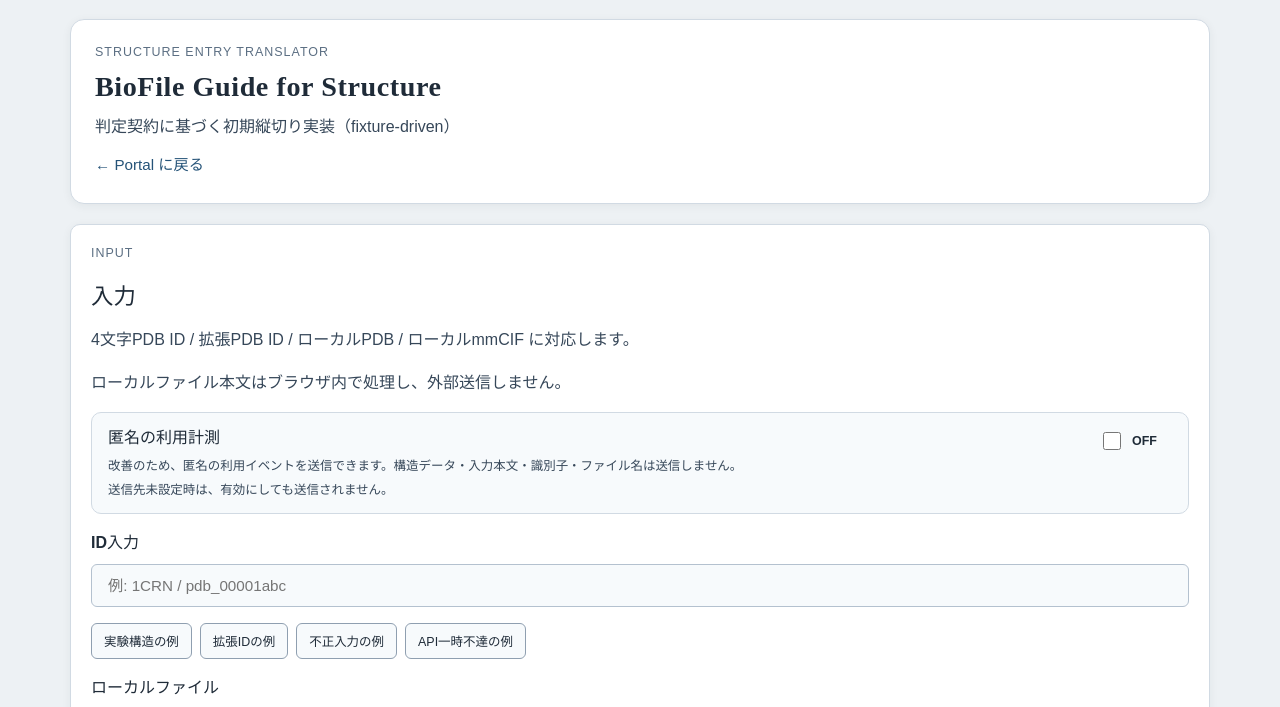
Test case: App anonymous telemetry integration › separates unknown render telemetry from error telemetry
Click the button "拡張IDの例".
click(244, 641)  # box [200,623,288,659]
(page scrolled)
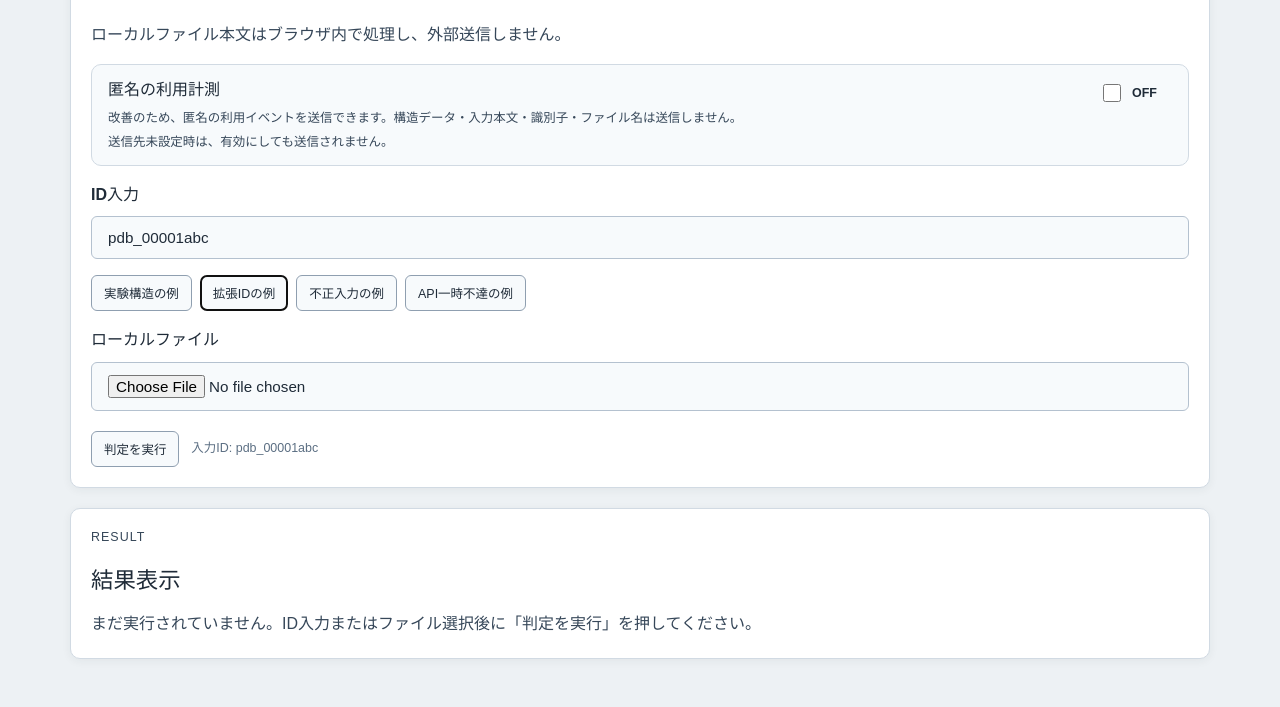
Click the button "判定を実行".
click(135, 449)  # box [91,431,179,467]
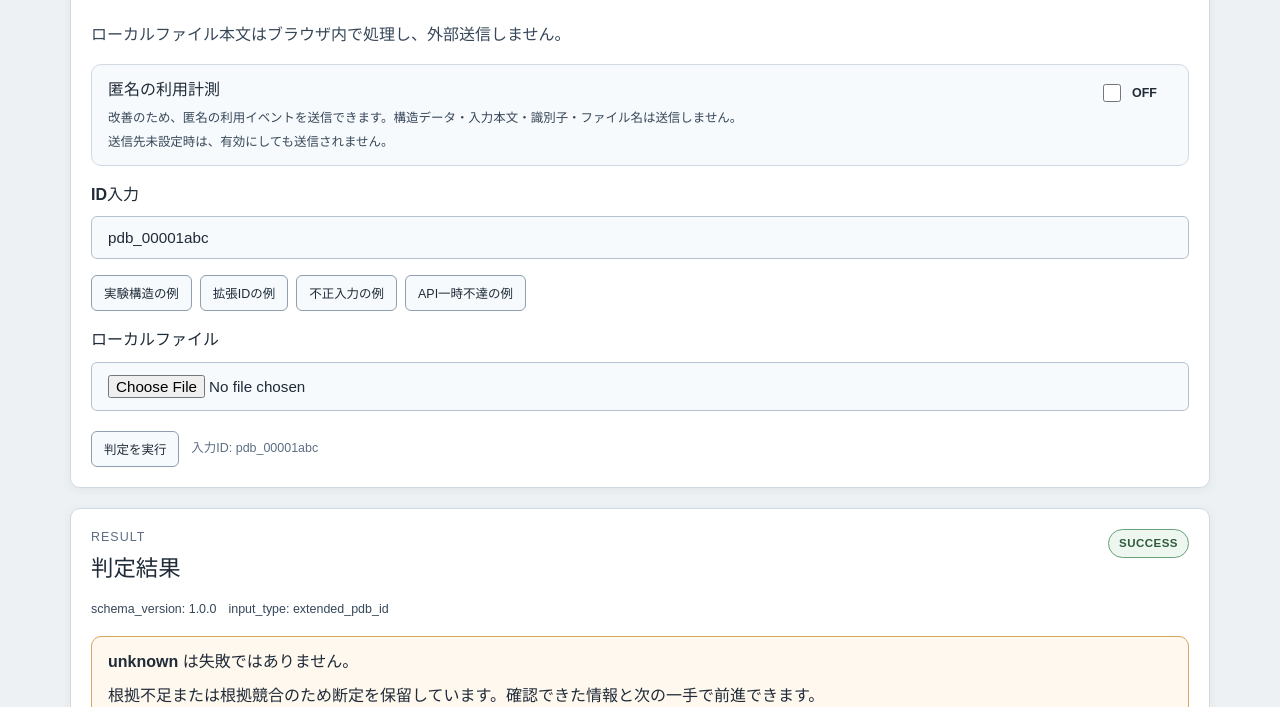
Now the text "unknown は失敗ではありません。" is shown, box [108,653,358,670]
